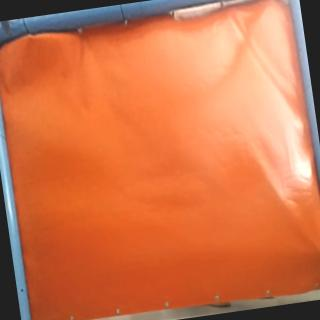Hit-hRxx: (313, 245, 320, 261)
